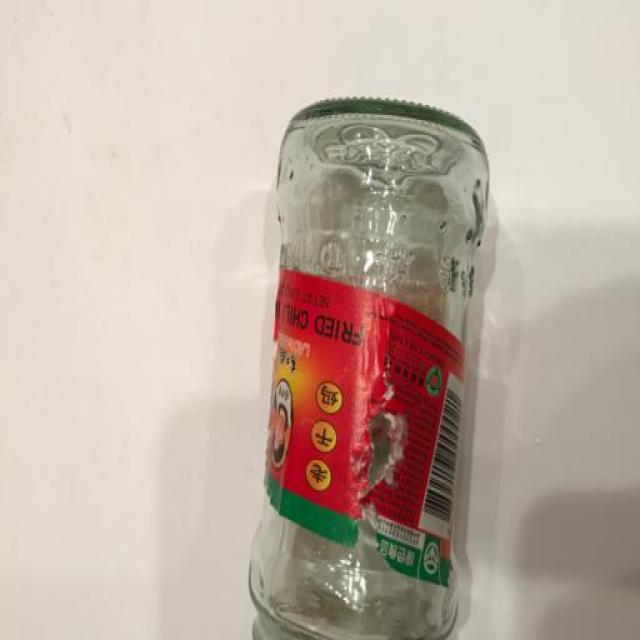glass: (244, 79, 504, 640)
